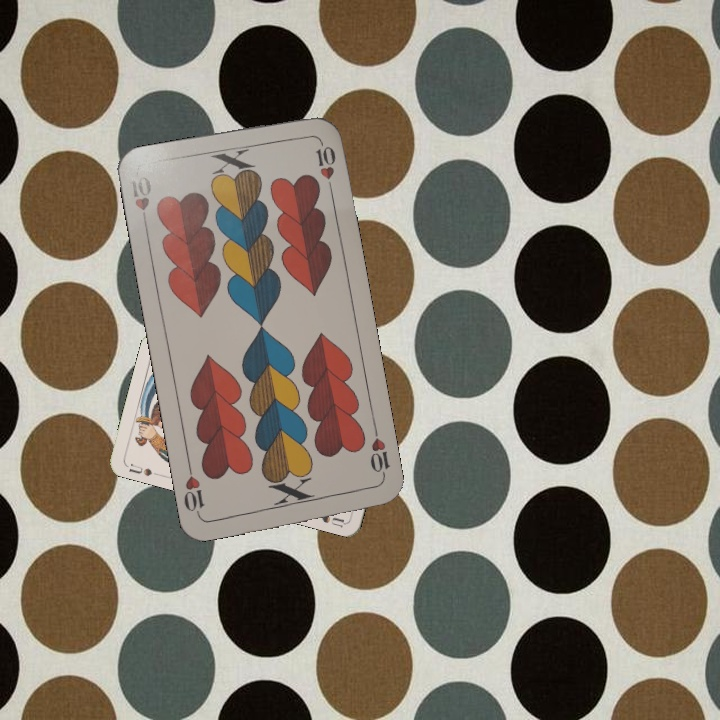H10: (126, 172, 154, 230), (366, 424, 393, 483)
SU: (125, 460, 155, 479)
